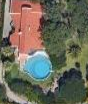pool: (26, 56, 51, 77)
